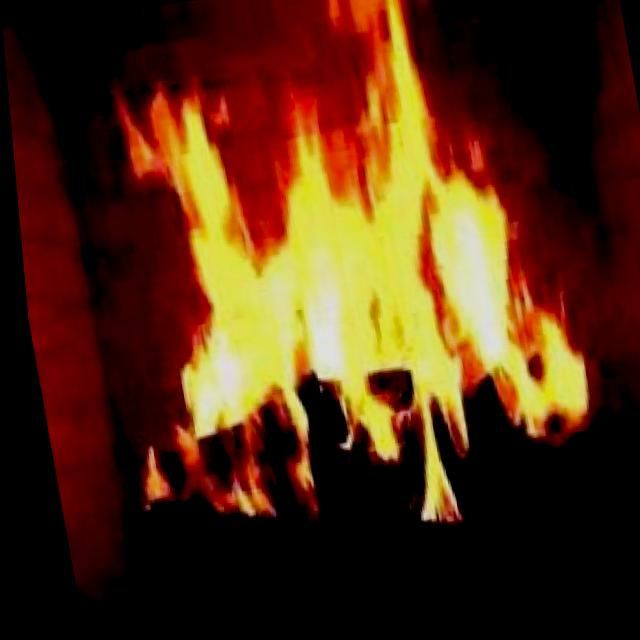helmet: (41, 0, 614, 585)
